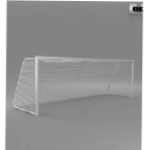goals: (12, 53, 136, 120)
